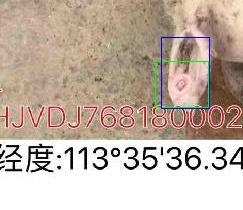text: (155, 61, 208, 107)
